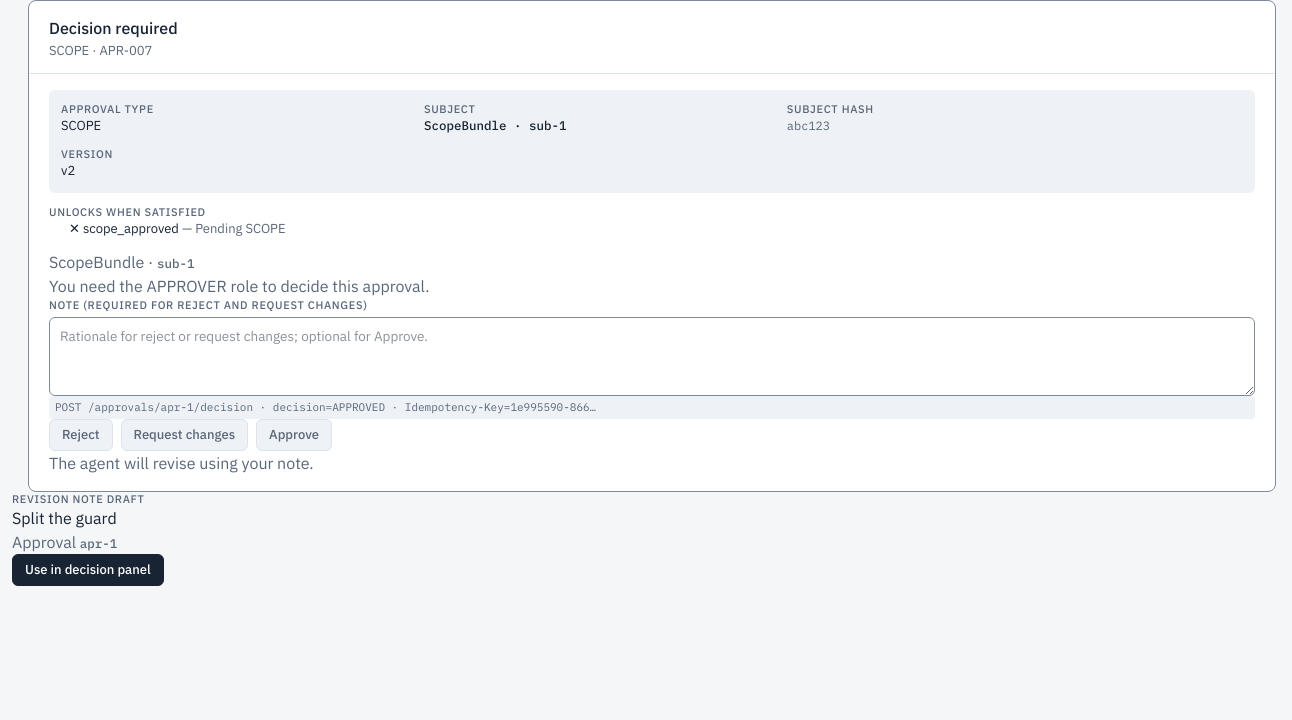
Scenario: DecisionPanel › fills the note from a chat revision draft while already open
Check: the text box is empty, box x1=49 y1=317 x2=1255 y2=396
What coordinates should you click on to do the following:
click the button "Use in decision panel"
I would click on:
 (88, 570)
Its box is x1=12 y1=554 x2=164 y2=586.
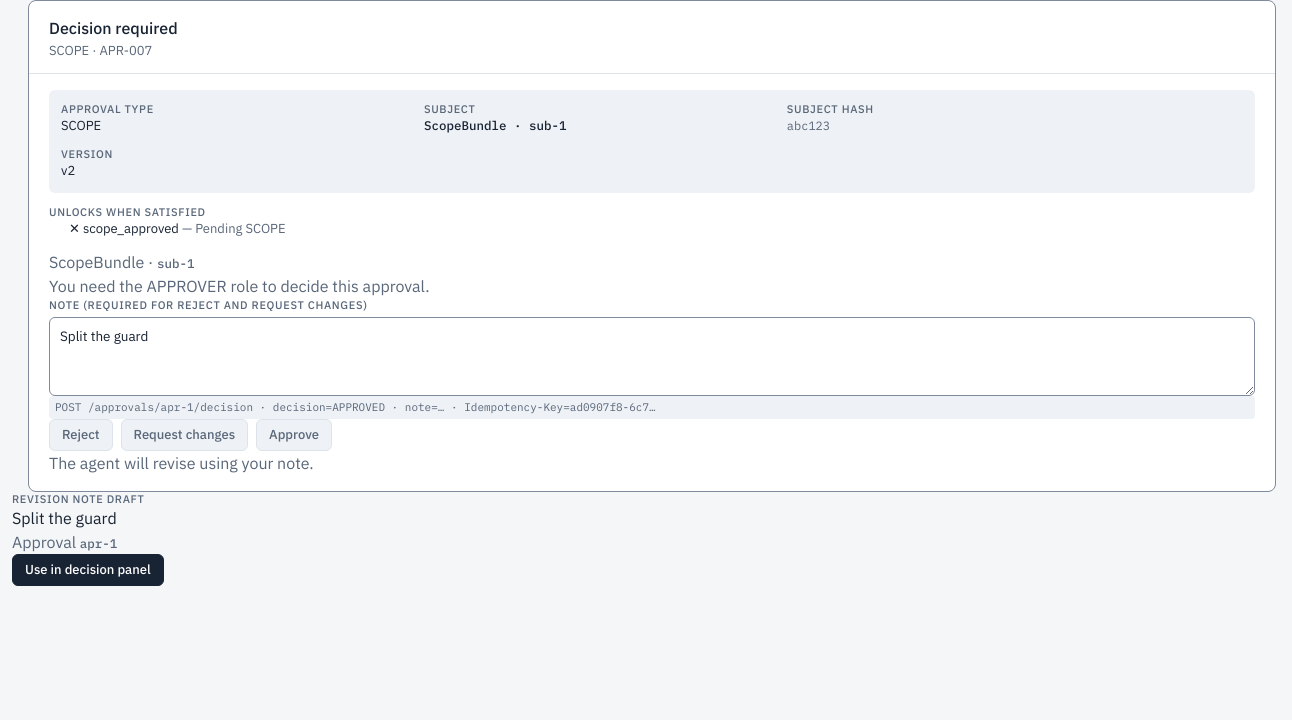
Check: the text box holds "Split the guard", box x1=49 y1=317 x2=1255 y2=396
